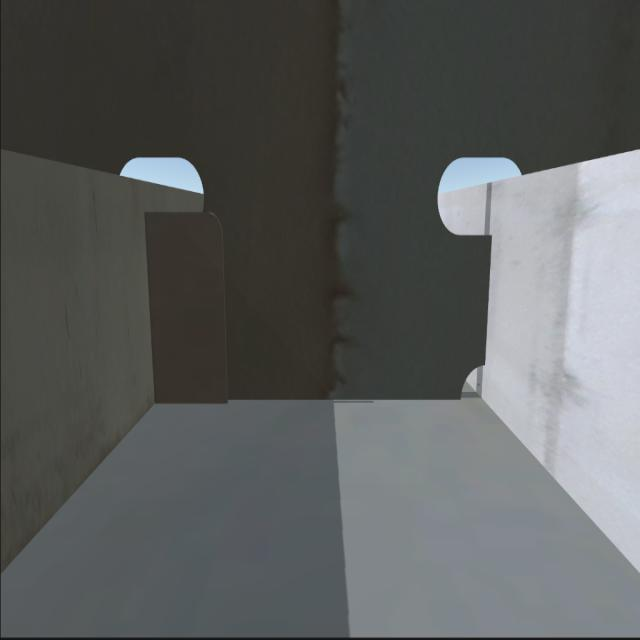fillet_hole: (456, 362, 486, 401)
fillet_yong_jeop_jang: (157, 396, 460, 404)
longi_yong_jeop_jang: (144, 216, 162, 402), (484, 237, 495, 366)
plate_CP05: (144, 211, 226, 406)
